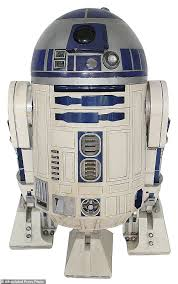r2d2: (6, 7, 171, 278)
